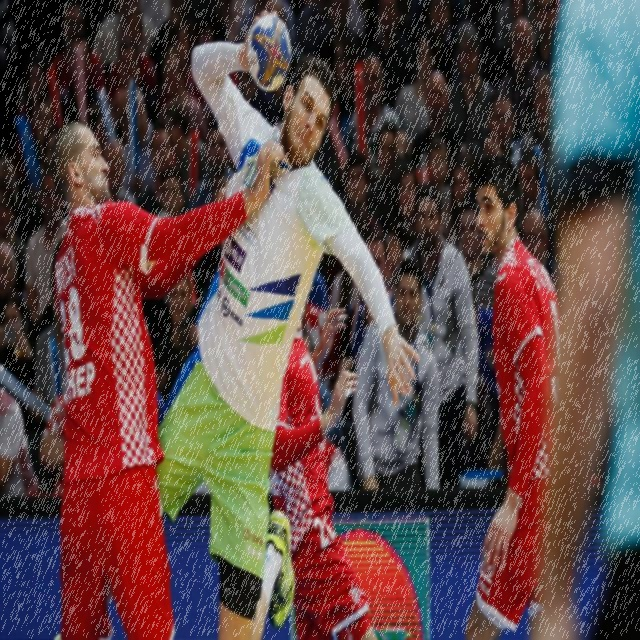pessoa: (154, 10, 420, 640), (50, 116, 286, 640), (540, 3, 638, 640), (0, 0, 232, 249), (335, 1, 560, 217), (464, 153, 563, 640), (394, 182, 482, 494), (351, 259, 442, 495), (338, 231, 399, 418), (338, 233, 398, 423), (0, 293, 39, 482), (233, 1, 335, 72), (24, 166, 70, 323), (0, 288, 34, 470), (0, 383, 41, 506), (456, 204, 498, 318), (40, 388, 64, 497), (518, 208, 554, 278), (163, 272, 193, 352), (523, 218, 559, 274), (384, 218, 405, 282)
